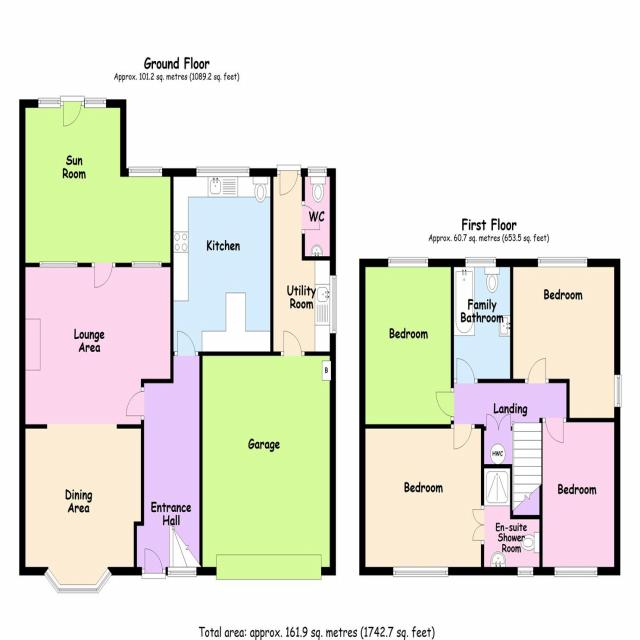DOOR: (276, 164, 302, 197), (141, 548, 166, 580), (60, 95, 84, 127), (452, 356, 479, 384), (279, 329, 306, 356), (434, 386, 454, 422), (91, 262, 116, 289), (125, 386, 144, 421), (450, 424, 475, 450), (524, 357, 549, 383), (174, 330, 199, 356), (302, 200, 320, 235), (542, 418, 567, 443)
ROOM: (19, 261, 174, 594), (170, 166, 274, 357), (359, 424, 484, 578), (510, 258, 621, 423), (359, 256, 454, 429), (539, 417, 621, 578)
WINDOW: (43, 567, 113, 594), (392, 566, 449, 578), (536, 256, 588, 269), (196, 166, 250, 178), (387, 255, 429, 269), (329, 274, 338, 334), (554, 566, 598, 578), (127, 165, 163, 178), (464, 256, 497, 268), (167, 566, 197, 578), (613, 374, 622, 408), (84, 97, 107, 109), (39, 261, 78, 268), (37, 97, 61, 108), (307, 166, 328, 178), (131, 261, 162, 268), (517, 566, 534, 578)
